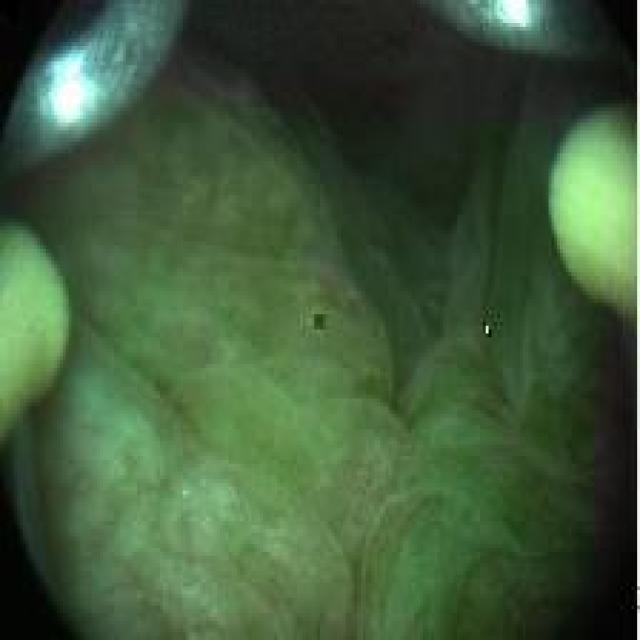color misalignment: (310, 301, 332, 336), (483, 321, 493, 338)
contrast: (210, 10, 436, 179)
instrument: (9, 0, 173, 160), (553, 107, 629, 325), (2, 224, 65, 420), (443, 3, 607, 64)
specularity: (46, 50, 93, 122), (492, 2, 533, 25)
